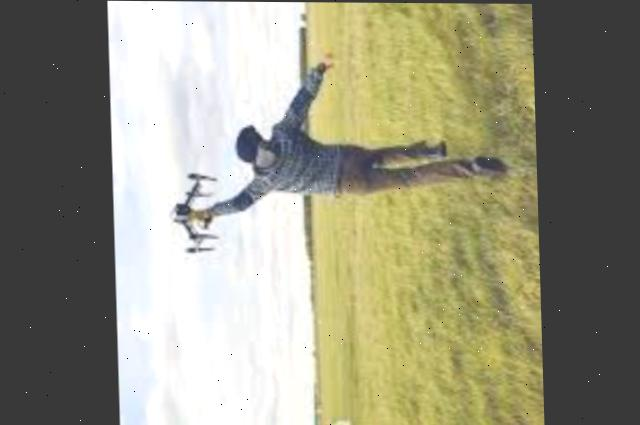drone: (154, 154, 225, 267)
